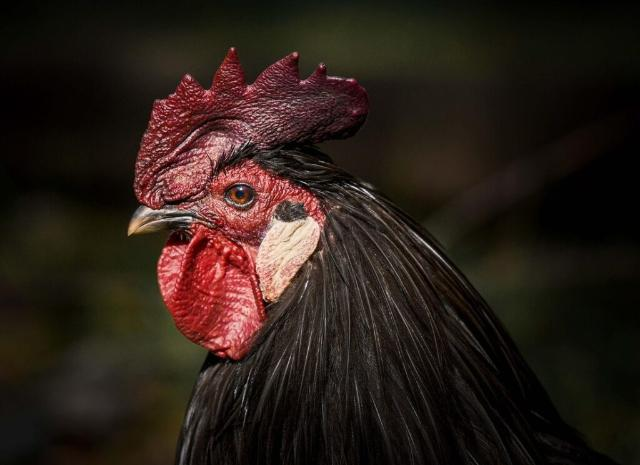Chicken: (129, 44, 567, 465)
